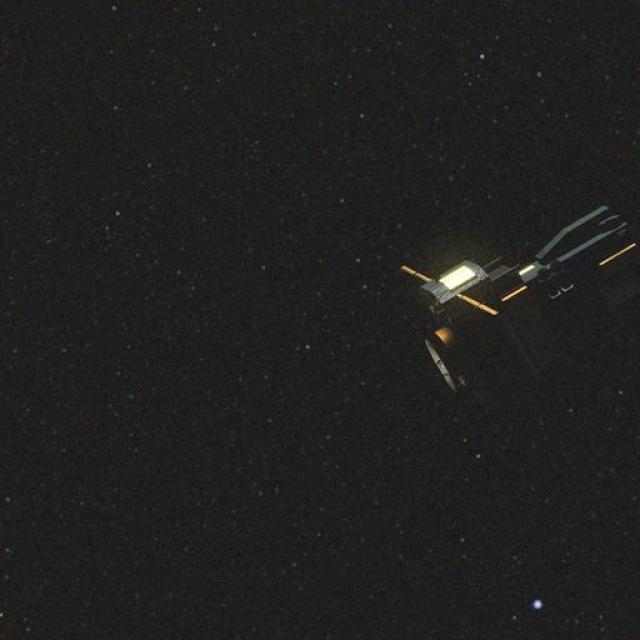soho: (401, 192, 640, 408)
